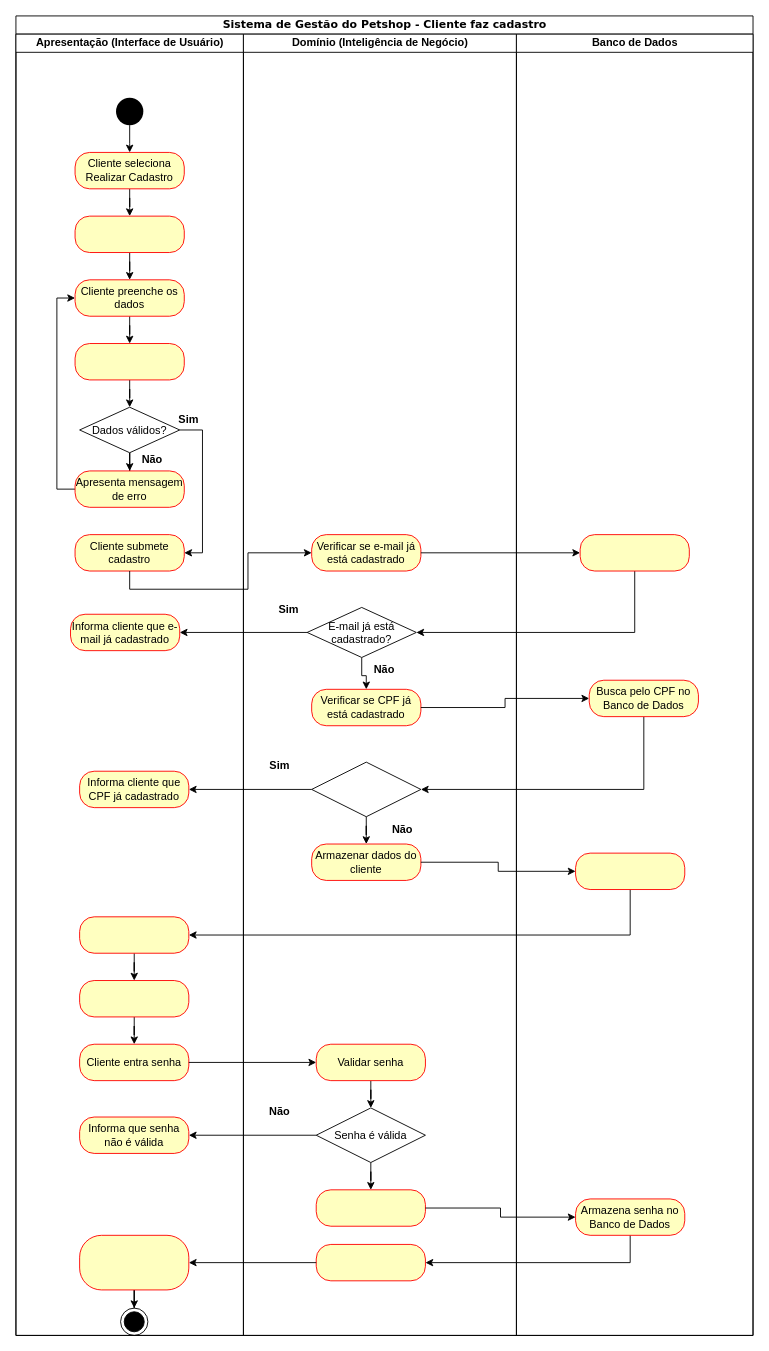
The diagram is 769 pixels wide and 1351 high, and some of its shapes have lost their labels. Each missing label, with the centre of its shape:
Aplicação valida os dados: the point at 129,361
Armazenar dados do cliente no Banco de Dados: the point at 630,871
Busca pelo e-mail no Banco de Dados: the point at 634,552
CPF já está cadastrado?: the point at 366,789
Criptografa e armazena senha: the point at 370,1207
Finaliza cadastro: the point at 370,1262
Informa cliente que cadastro foi finalizado com sucesso: the point at 134,1262
Realizar Cadastro do(s) Pet(s): the point at 134,934
Sistema apresenta form de Cadastro de Clientes: the point at 129,234
Sistema pede para entrar senha: the point at 134,998
